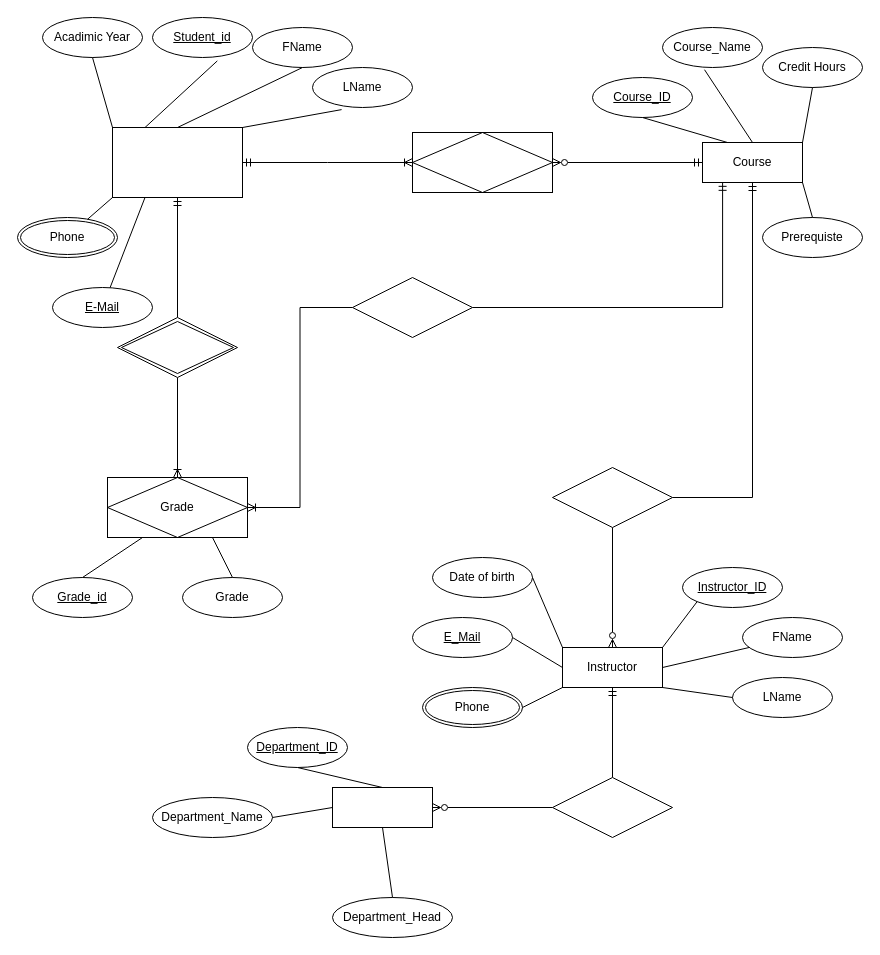
This 880x955 diagram has some shape labels left out. The centre of each missing label's shape, as x and y in pixels:
Department: point (382, 807)
Enrolling: point (482, 162)
Has: point (177, 347)
IN: point (412, 307)
IS IN: point (612, 807)
Student: point (177, 162)
Teached By: point (612, 497)
